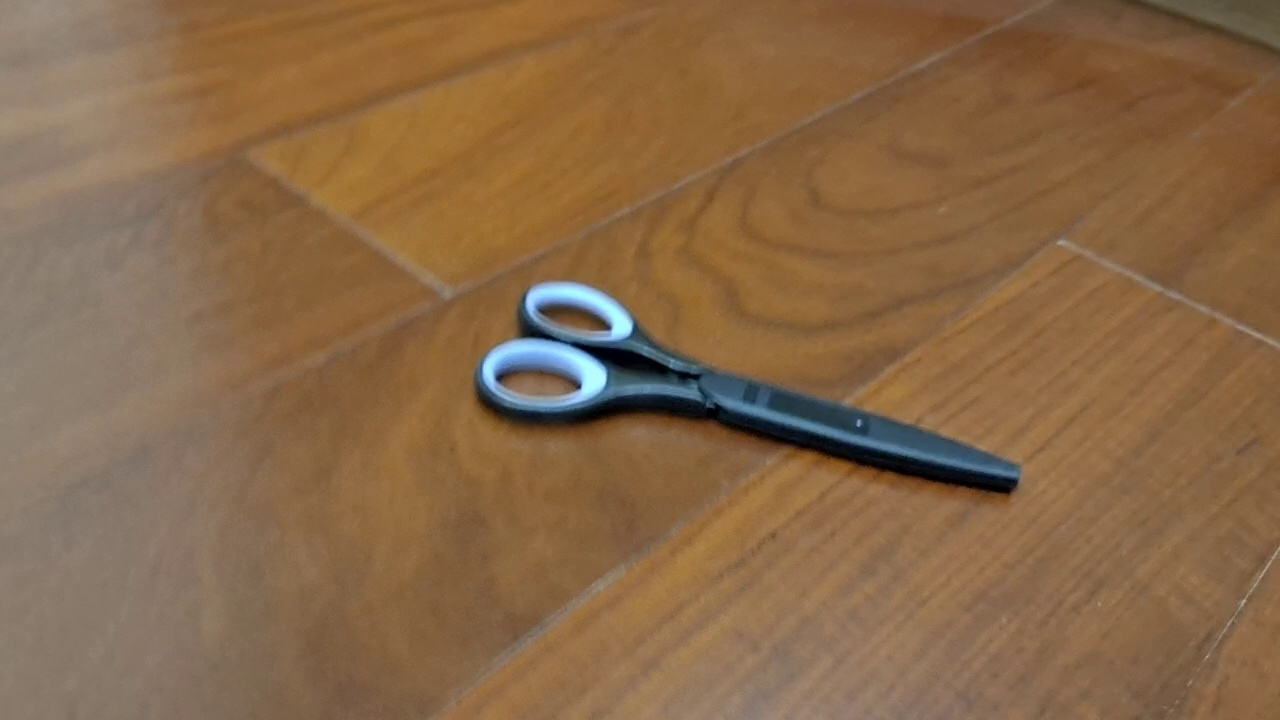scissors: (473, 278, 1023, 496)
